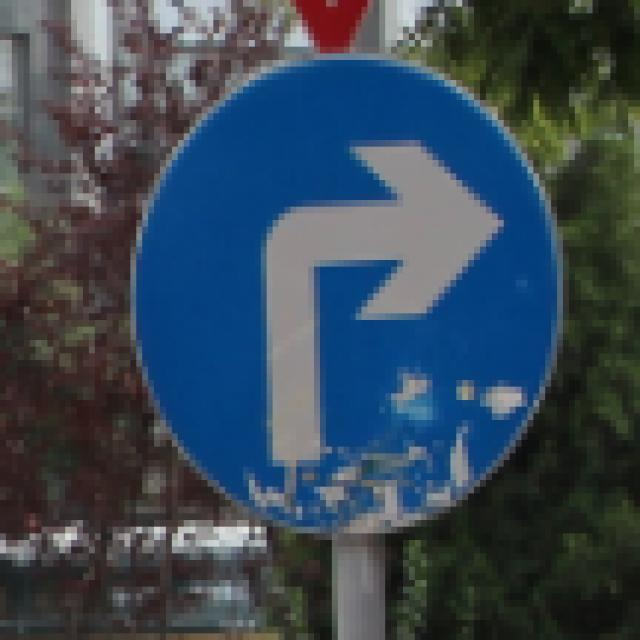Right: (128, 46, 578, 539)
